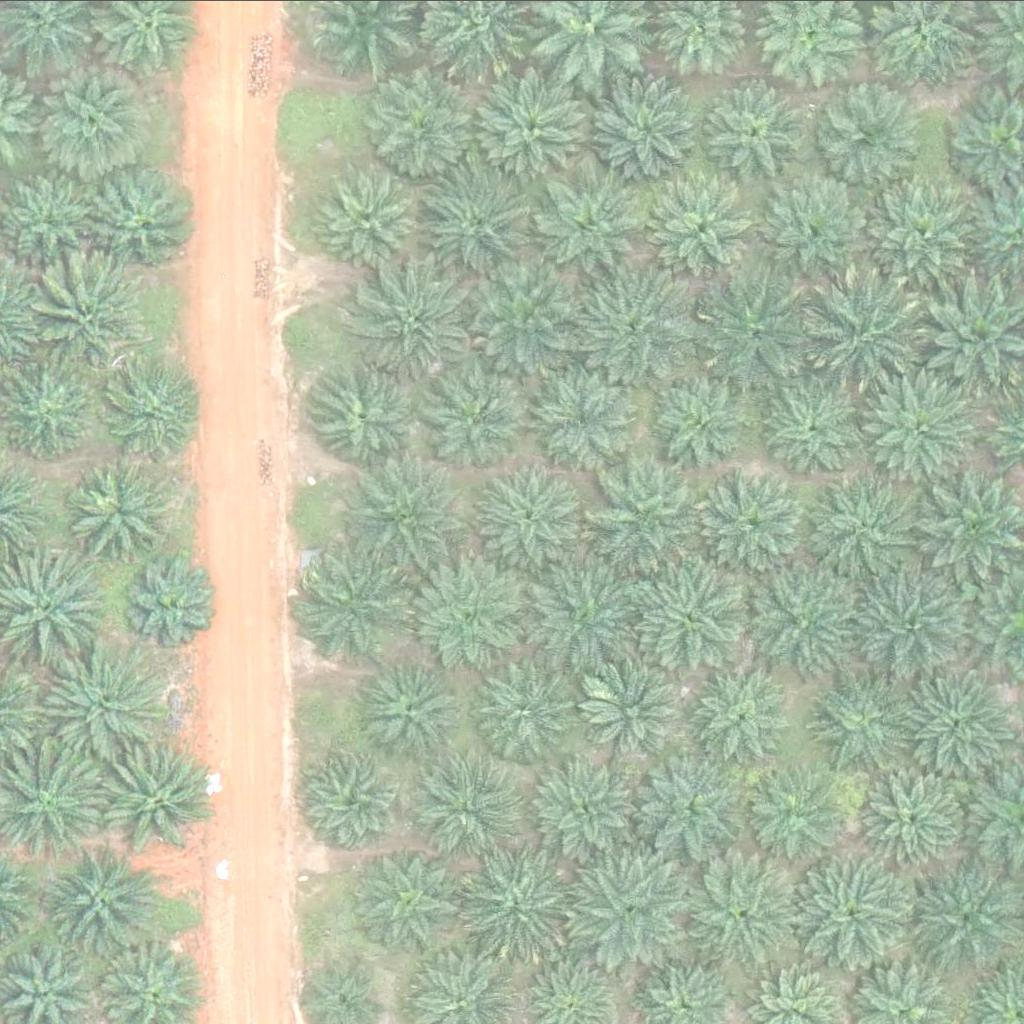Kelapa_Sawit: (536, 163, 650, 276), (697, 470, 811, 583), (53, 647, 167, 760), (46, 847, 160, 960), (366, 70, 479, 183), (470, 69, 583, 182), (702, 76, 815, 189), (810, 81, 923, 194), (868, 183, 981, 296), (425, 172, 538, 285), (471, 258, 584, 371), (575, 278, 688, 391), (418, 360, 531, 473), (354, 467, 467, 580), (475, 466, 588, 579), (815, 473, 928, 586), (303, 553, 416, 666), (420, 560, 533, 673), (635, 556, 748, 669), (737, 563, 850, 676), (819, 668, 932, 781), (580, 853, 693, 966), (687, 858, 800, 971), (791, 853, 904, 966), (644, 166, 758, 278), (308, 363, 422, 475), (846, 566, 960, 678), (352, 848, 466, 960), (595, 76, 708, 188), (756, 173, 869, 285), (359, 265, 472, 377), (699, 272, 812, 384), (812, 271, 925, 383), (865, 370, 978, 482), (587, 452, 700, 564), (531, 559, 644, 671), (582, 648, 695, 760), (895, 663, 1008, 775), (631, 749, 744, 861), (467, 849, 580, 961), (41, 60, 154, 172), (87, 166, 200, 278), (35, 261, 148, 373), (71, 454, 184, 566), (104, 739, 217, 851), (319, 175, 420, 275), (757, 380, 858, 480), (541, 367, 642, 467), (355, 657, 456, 757), (484, 658, 585, 758), (693, 665, 794, 765), (745, 766, 846, 866), (532, 756, 633, 856), (109, 361, 210, 461), (656, 373, 756, 473), (864, 766, 964, 866), (419, 763, 519, 863), (302, 752, 402, 852), (133, 561, 221, 648)
